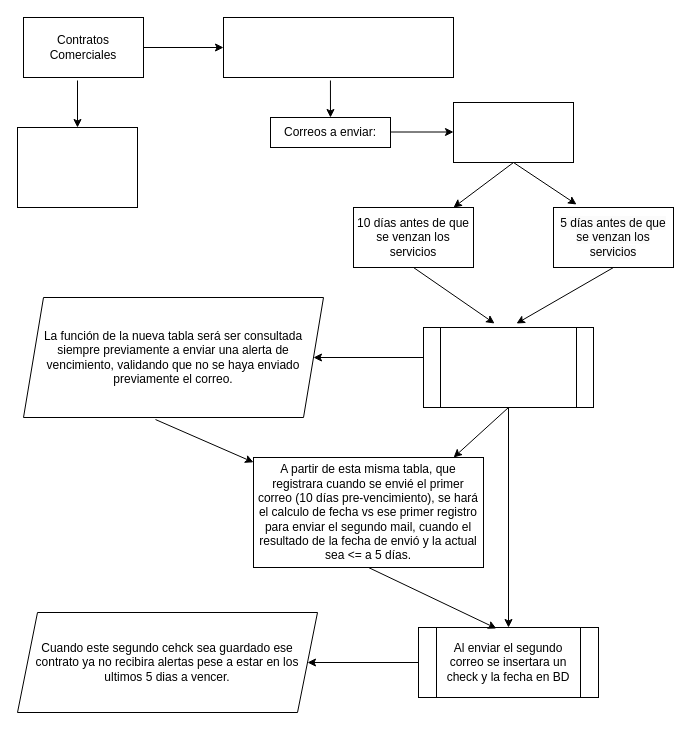
Some shapes in this 691 by 730 pixel diagram are drawn without their labels. The centre of each missing label's shape, as x and y in pixels:
Al enviar el correo se insertara un check y la fecha a una nueva tabla en BD: point 508,367
Customer Service (Correo) PD: Agregar algo mas?: point 77,167
Fecha de vencimiento = vigencia hasta: point 338,47
Los correos serán dirigidos al Customer Service: point 513,132
